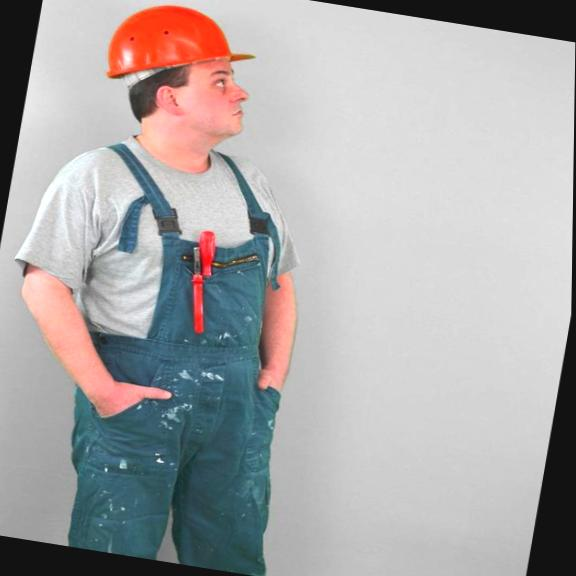no_safety_vest: (26, 127, 311, 434)
